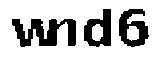6: (116, 8, 152, 48)
d: (82, 7, 115, 50)
n: (51, 17, 81, 51)
w: (9, 15, 51, 52)
